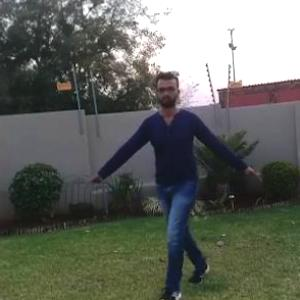land: (95, 69, 258, 291)
